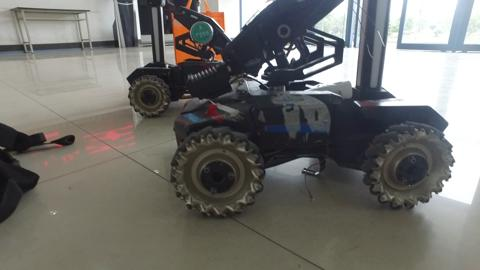chariot: (162, 1, 456, 218)
